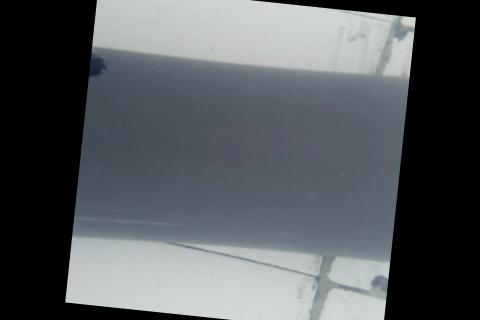kebocoran: (87, 50, 111, 82)
